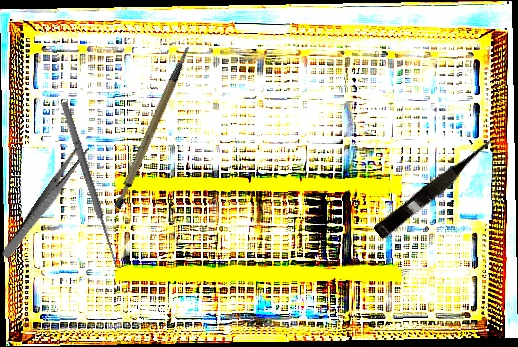Dressing Forceps: (0, 141, 91, 262)
Hook Surgical: (58, 98, 129, 271)
Micro Scissor: (372, 132, 502, 243)
Scalpel Handle: (93, 44, 216, 212)
